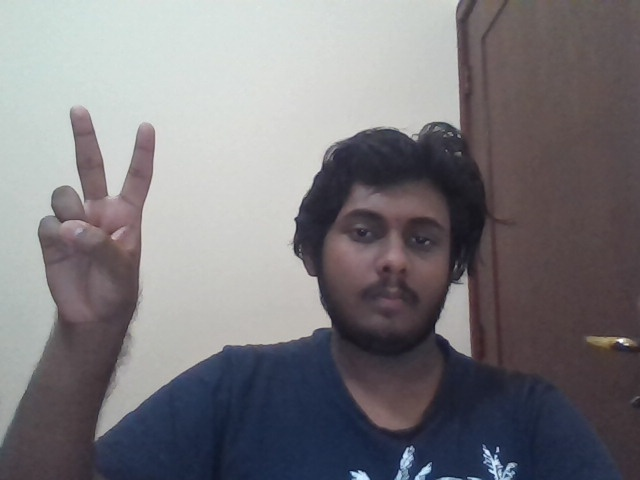peace: (38, 105, 157, 325)
